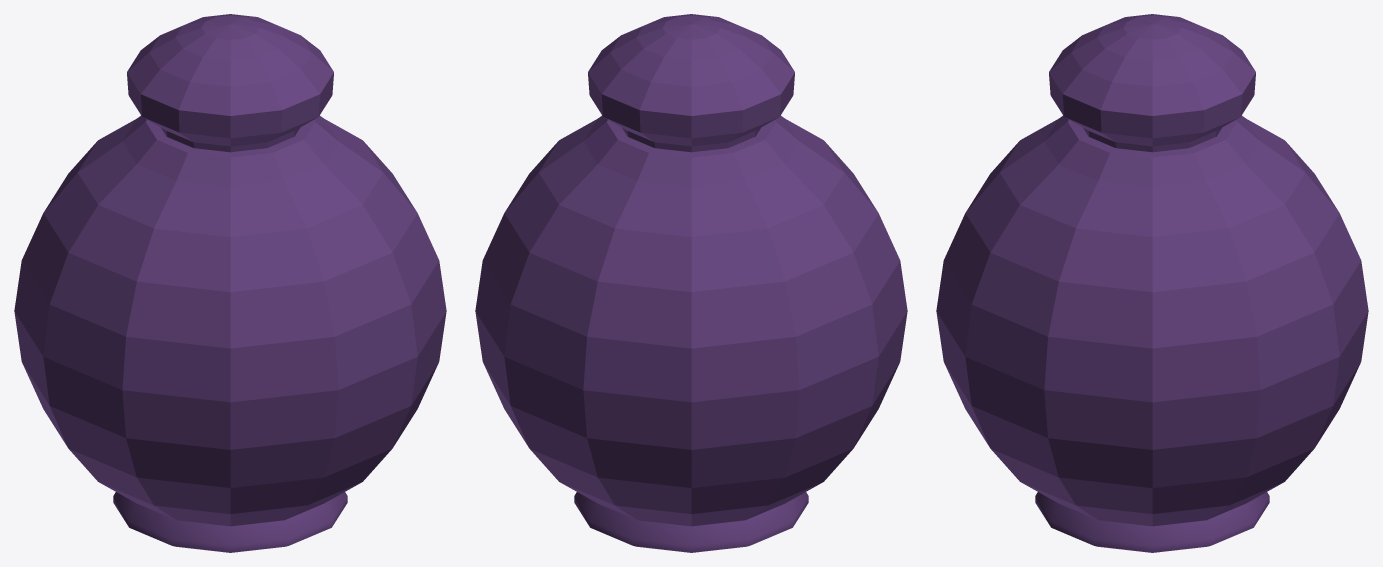
The model's file is Perfume.fbx.
The picture shows the model from 3 angles, left to right: view 1: azimuth 30°, elevation 25°; view 2: azimuth 150°, elevation 25°; view 3: azimuth 270°, elevation 25°; orthographic projection.
Visible parts, largest first — view 1: PerfumeBottle, PerfumeTop; view 2: PerfumeBottle, PerfumeTop; view 3: PerfumeBottle, PerfumeTop.
Part boxes in pixels (<box>): PerfumeBottle: <box>14,115,446,552</box>; PerfumeTop: <box>127,14,333,152</box>; PerfumeBottle: <box>475,115,907,552</box>; PerfumeTop: <box>588,14,794,152</box>; PerfumeBottle: <box>936,115,1368,552</box>; PerfumeTop: <box>1049,14,1255,152</box>.
Bounding box in the file's own units: 2 × 2.46 × 2.
